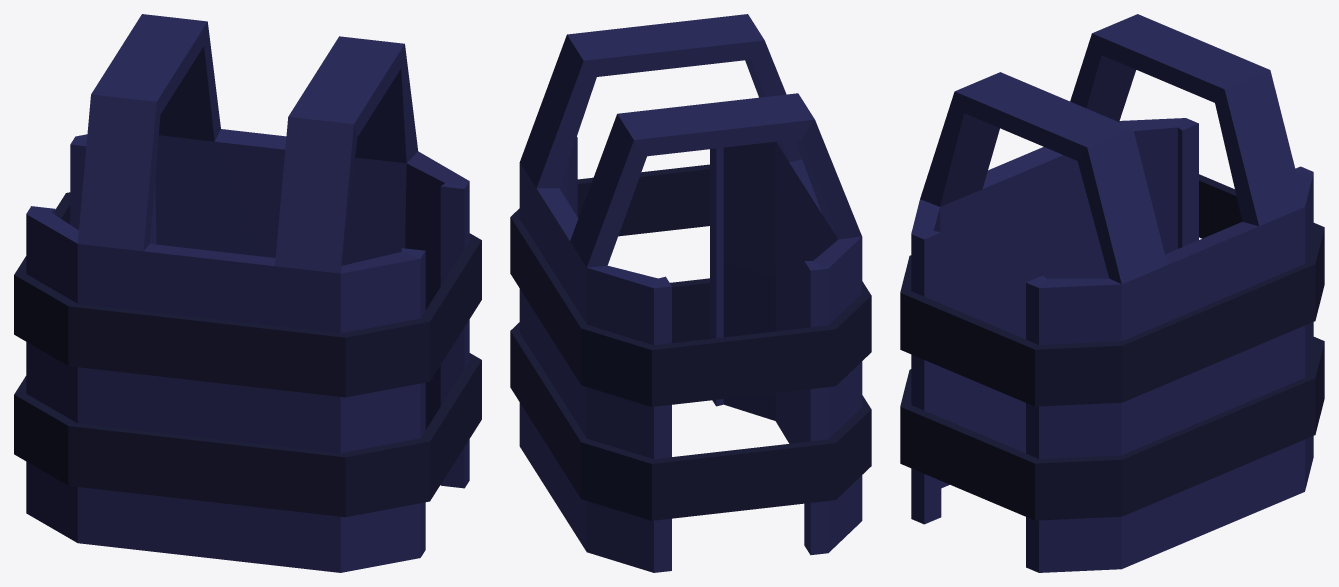
The model's file is bronik.fbx.
3 renders of one model, left to right at view 1: azimuth 30°, elevation 25°; view 2: azimuth 150°, elevation 25°; view 3: azimuth 270°, elevation 25°, orthographic. The views are drawn at different scales.
Parts seen in each view (by area): view 1: bronik; view 2: bronik; view 3: bronik.
Boxes of the visible parts, x1=… form: bronik: x1=14, y1=14, x2=481, y2=572; bronik: x1=510, y1=14, x2=871, y2=572; bronik: x1=900, y1=14, x2=1324, y2=572.
Bounding box in the file's own units: 0.5349 × 0.566 × 0.5349.
